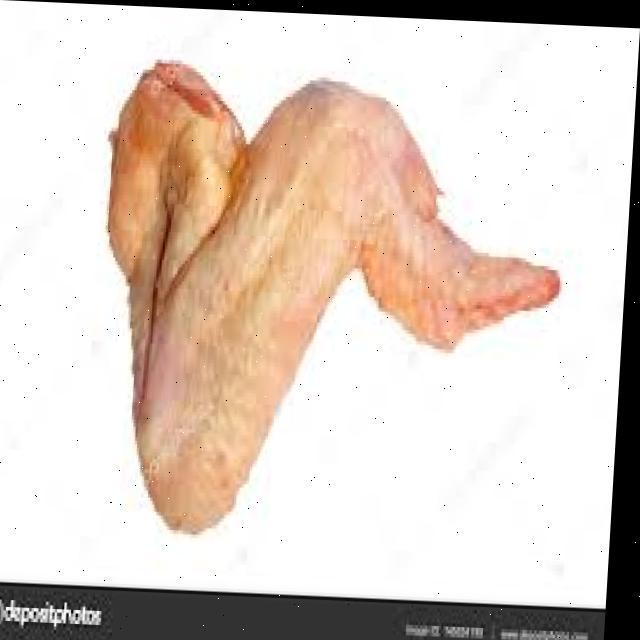wing: (90, 42, 582, 554)
